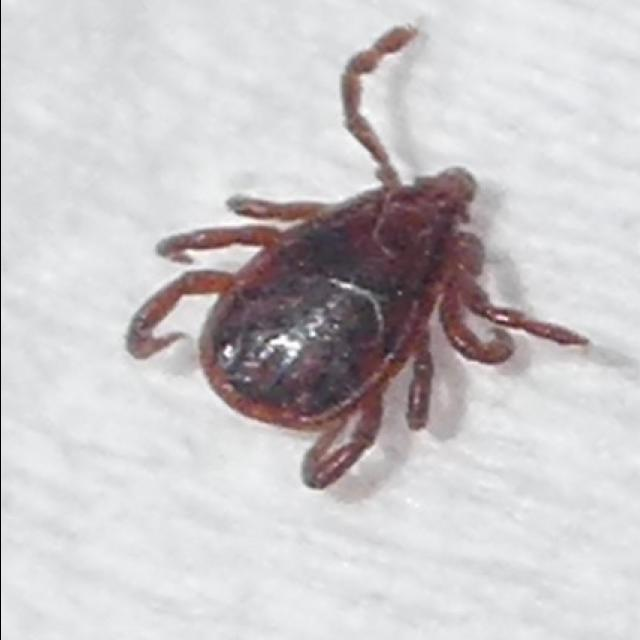Rhipicephalus Sanguineus-M: (123, 29, 586, 492)
